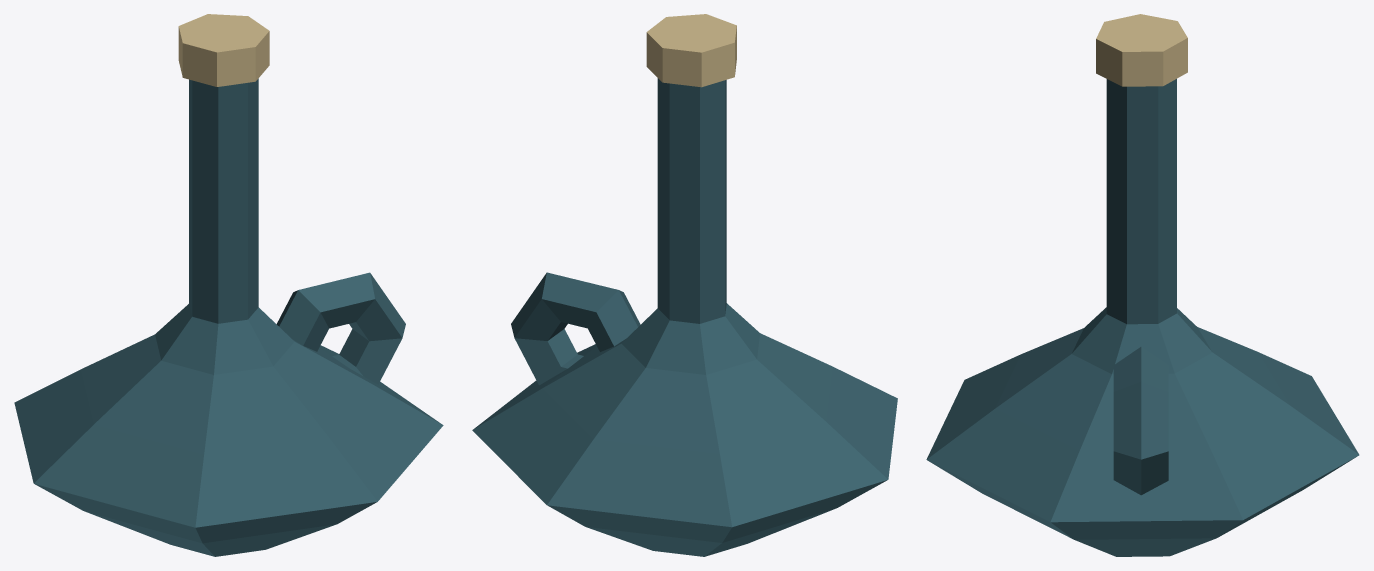
Rendered from LongHandlePotion.009.fbx.
3 views of the same model, side by side, from view 1: azimuth 30°, elevation 25°; view 2: azimuth 150°, elevation 25°; view 3: azimuth 270°, elevation 25° (orthographic).
Parts seen in each view (by area): view 1: LongHandlePotion.009; view 2: LongHandlePotion.009; view 3: LongHandlePotion.009.
Part boxes in pixels (x1,y1,x2,y2): LongHandlePotion.009: (14, 14, 443, 556); LongHandlePotion.009: (472, 14, 897, 556); LongHandlePotion.009: (926, 14, 1359, 556).
Size of the model in its own units: 18.39 by 23.36 by 18.37.
